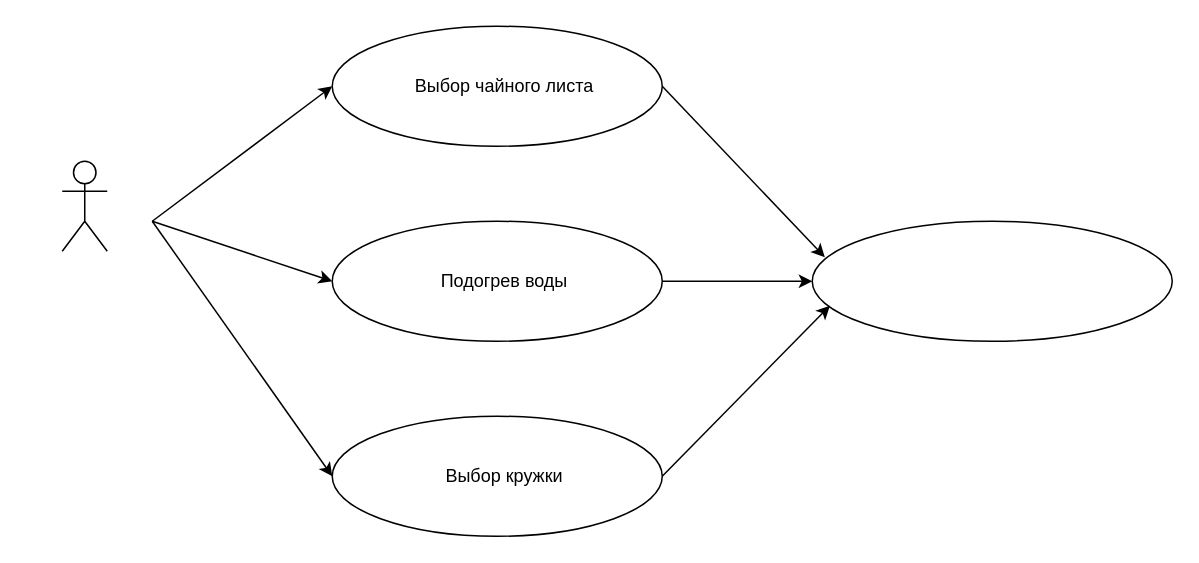
The diagram is 1199 pixels wide and 563 high, and some of its shapes have lost their labels. Here are the shapes that lost their labels. From the top down, the centre of each, then its label:
At pixel 84 205: "Пользователь".
At pixel 991 280: "Чай".
